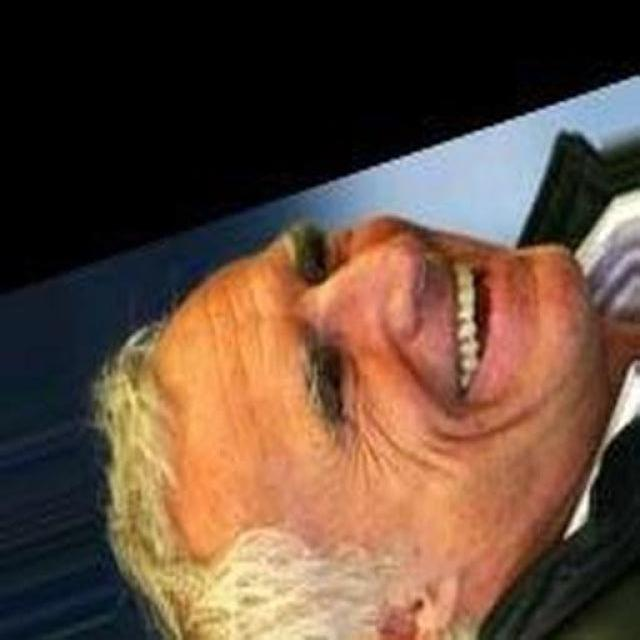bareface: (241, 215, 602, 484)
